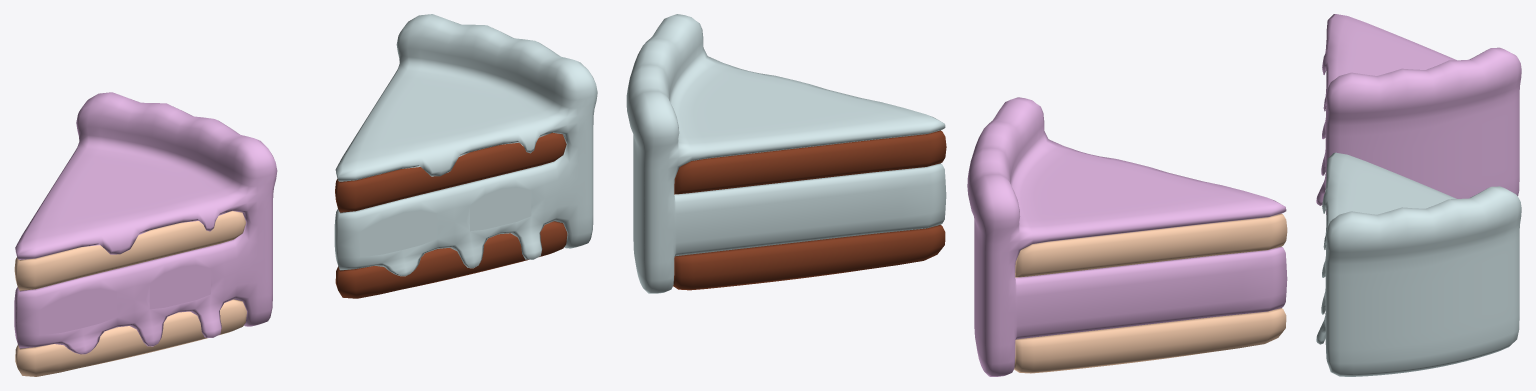
File: cakes.fbx
3 renders of one model, left to right at view 1: azimuth 30°, elevation 25°; view 2: azimuth 150°, elevation 25°; view 3: azimuth 270°, elevation 25°, orthographic. The views are drawn at different scales.
Parts seen in each view (by area): view 1: cakechoco, cakestrawberry; view 2: cakechoco, cakestrawberry; view 3: cakechoco, cakestrawberry.
Boxes of the visible parts, left/top/right/bottom form: cakechoco: left=334, top=14, right=597, bottom=298; cakestrawberry: left=14, top=92, right=277, bottom=376; cakechoco: left=626, top=14, right=946, bottom=293; cakestrawberry: left=967, top=97, right=1287, bottom=376; cakechoco: left=1316, top=152, right=1521, bottom=376; cakestrawberry: left=1316, top=14, right=1521, bottom=214.
Bounding box in the file's own units: 191 × 57.1 × 65.97.
